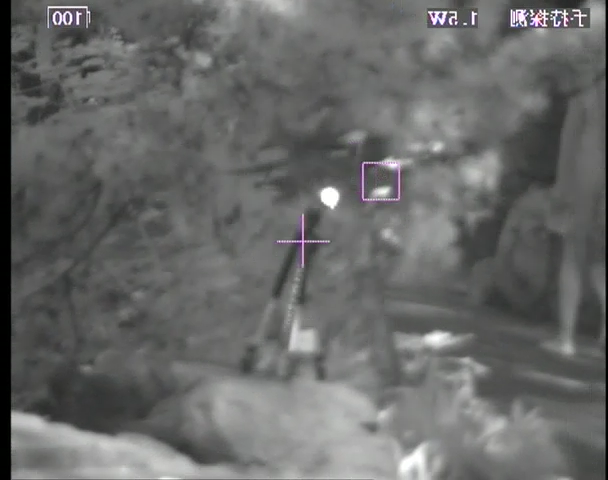my: (319, 186, 340, 210)
